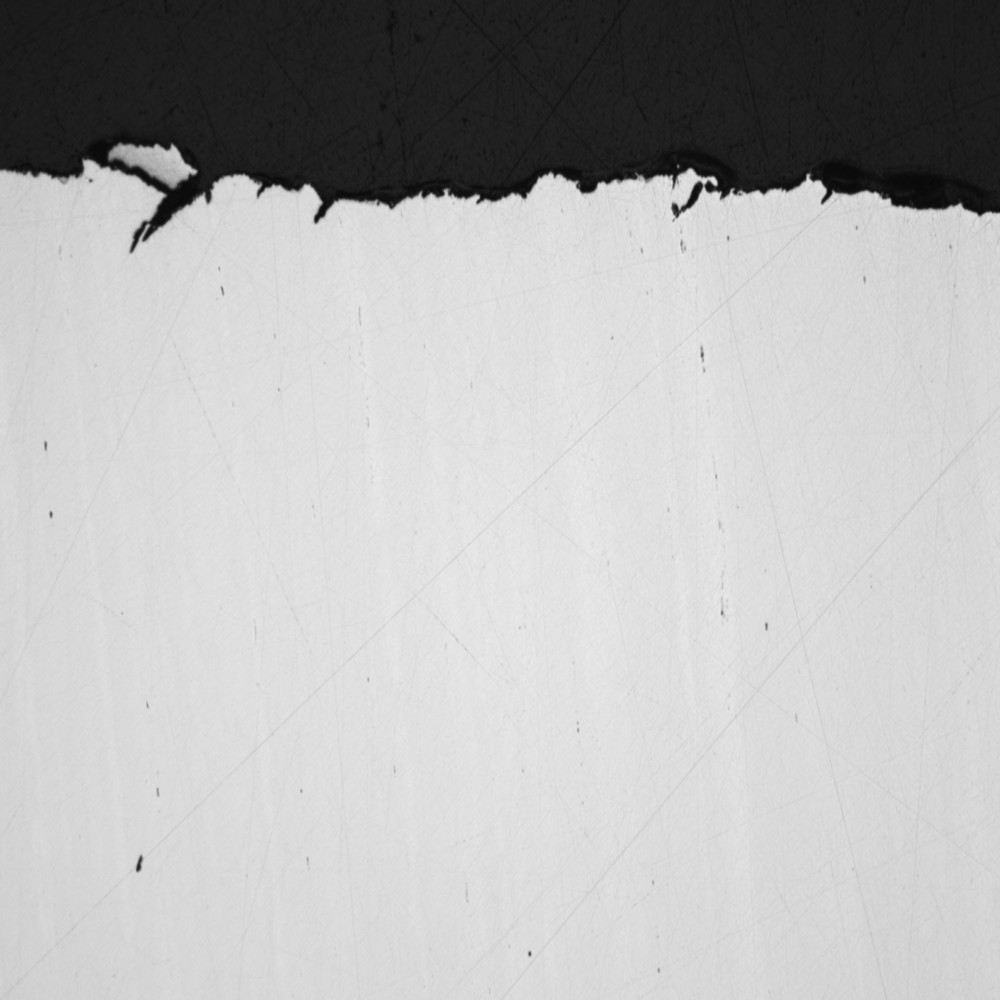crack: (96, 124, 234, 252), (649, 149, 838, 231)
